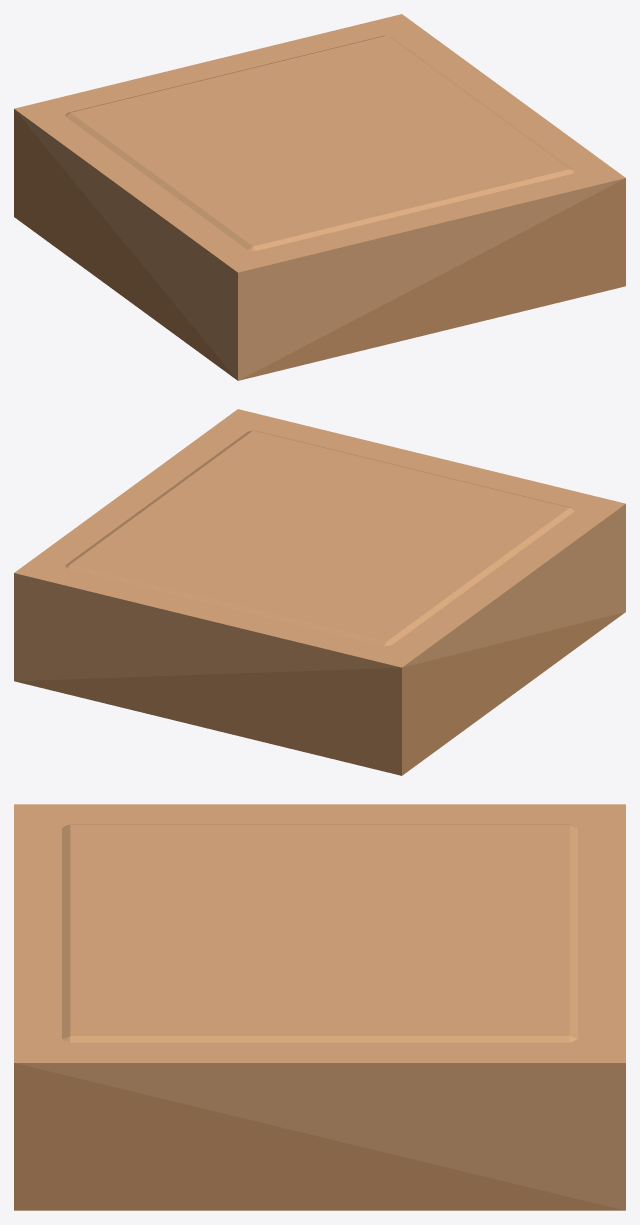
The model's file is TileB.fbx.
3 renders of one model, top to bottom at view 1: azimuth 30°, elevation 25°; view 2: azimuth 150°, elevation 25°; view 3: azimuth 270°, elevation 25°, orthographic. The views are drawn at different scales.
Parts seen in each view (by area): view 1: TileB.001; view 2: TileB.001; view 3: TileB.001.
Boxes of the visible parts, x1,y1,x2,y2 form: TileB.001: (14, 14, 625, 380); TileB.001: (14, 409, 625, 775); TileB.001: (14, 804, 625, 1210).
Size of the model in its own units: 97.5 by 26.55 by 97.5.
